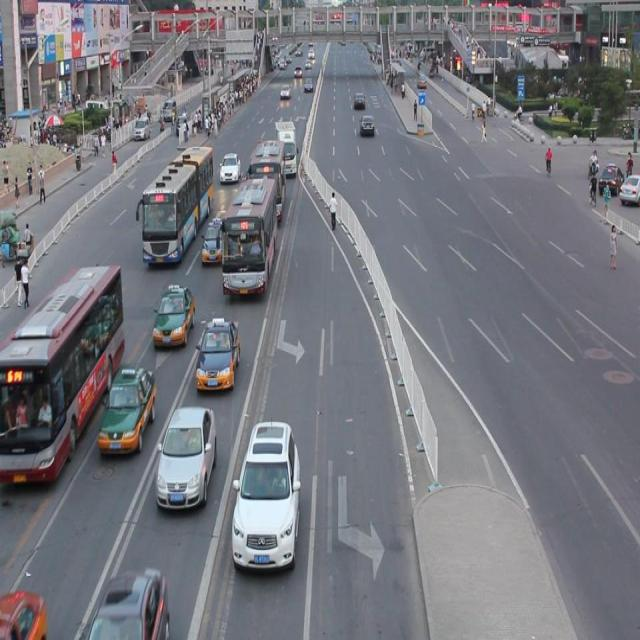bus: (274, 122, 297, 177)
car: (232, 419, 301, 568), (155, 406, 216, 508), (87, 572, 170, 640), (98, 368, 157, 451), (196, 317, 239, 385), (153, 283, 195, 344), (1, 590, 45, 640), (201, 218, 224, 262), (219, 153, 241, 182), (280, 128, 296, 154)
van: (0, 263, 126, 482), (138, 144, 212, 264), (221, 178, 276, 295), (245, 140, 285, 220)
